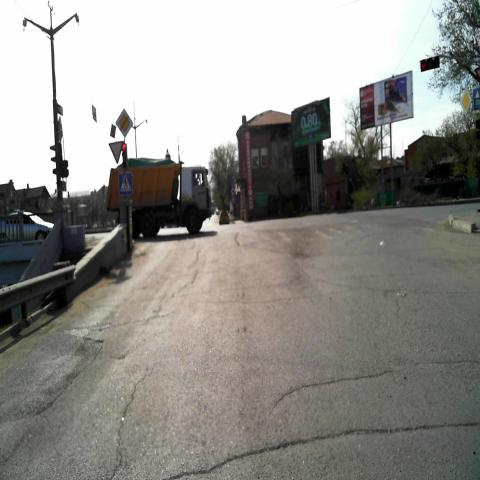2_2: (116, 110, 132, 137)
